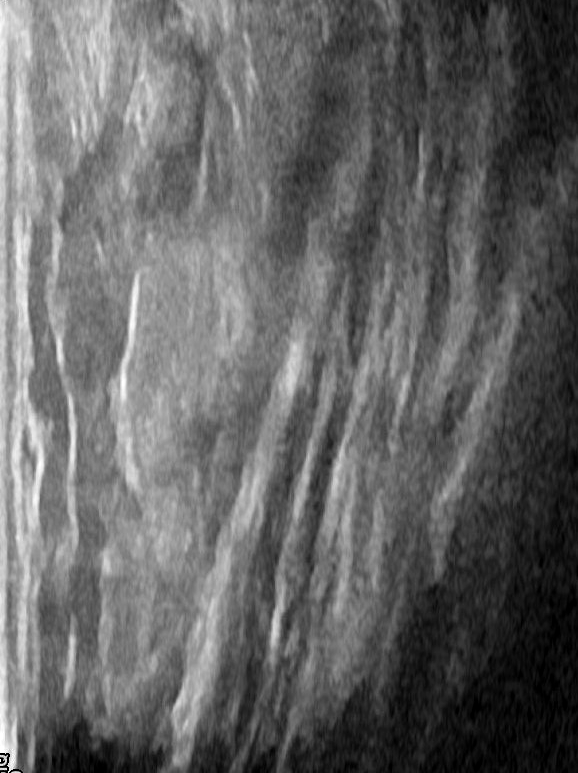Normal: (0, 2, 543, 767)
